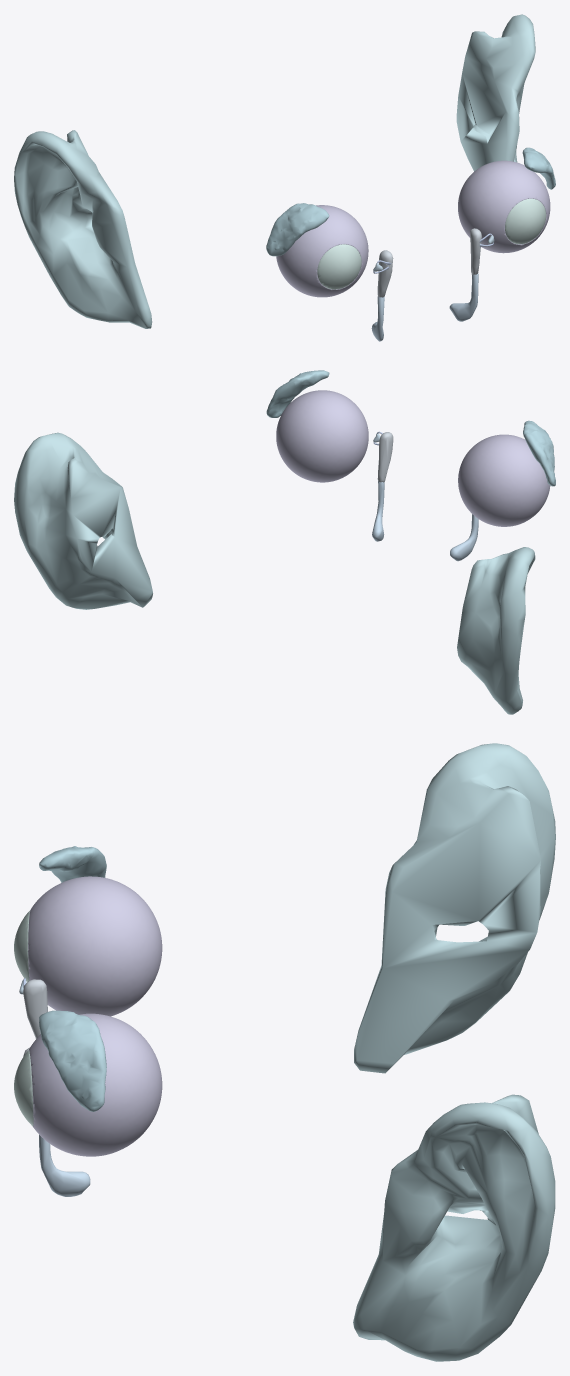
The model's file is body-sense.lod1.glb.
3 renders of one model, top to bottom at view 1: azimuth 30°, elevation 25°; view 2: azimuth 150°, elevation 25°; view 3: azimuth 270°, elevation 25°, orthographic. The views are drawn at different scales.
Parts seen in each view (by area): view 1: external-ear, sclera-l, sclera-r, lacrimal-gland-r, cornea-r, cornea-l, lacrimal-gland-l, nasolacrimal-duct-l, lacrimal-sac-r, lacrimal-sac-l; view 2: external-ear, sclera-l, sclera-r, lacrimal-gland-l, lacrimal-gland-r, lacrimal-sac-l, nasolacrimal-duct-r, nasolacrimal-duct-l; view 3: external-ear, sclera-r, sclera-l, lacrimal-gland-l, lacrimal-gland-r, nasolacrimal-duct-l, cornea-l, lacrimal-sac-r, cornea-r.
Part boxes in pixels (<box>): external-ear: <box>14,14,535,328</box>; sclera-l: <box>458,160,550,253</box>; sclera-r: <box>276,205,368,297</box>; lacrimal-gland-r: <box>266,203,329,256</box>; cornea-r: <box>317,244,361,289</box>; cornea-l: <box>505,198,546,244</box>; lacrimal-gland-l: <box>522,147,555,189</box>; nasolacrimal-duct-l: <box>449,273,478,321</box>; lacrimal-sac-r: <box>377,250,393,297</box>; lacrimal-sac-l: <box>470,228,481,274</box>; external-ear: <box>14,432,535,714</box>; sclera-l: <box>276,390,368,482</box>; sclera-r: <box>458,434,550,526</box>; lacrimal-gland-l: <box>266,370,329,417</box>; lacrimal-gland-r: <box>523,420,555,486</box>; lacrimal-sac-l: <box>377,432,393,482</box>; nasolacrimal-duct-r: <box>450,514,478,561</box>; nasolacrimal-duct-l: <box>372,481,384,541</box>; external-ear: <box>353,743,555,1361</box>; sclera-r: <box>28,876,162,1016</box>; sclera-l: <box>29,1013,162,1156</box>; lacrimal-gland-l: <box>39,1010,106,1111</box>; lacrimal-gland-r: <box>39,846,106,882</box>; nasolacrimal-duct-l: <box>39,1135,90,1196</box>; cornea-l: <box>14,1050,33,1126</box>; lacrimal-sac-r: <box>23,979,47,1038</box>; cornea-r: <box>14,910,30,981</box>.
Size of the model in its own units: 0.1675 by 0.0569 by 0.0995.
